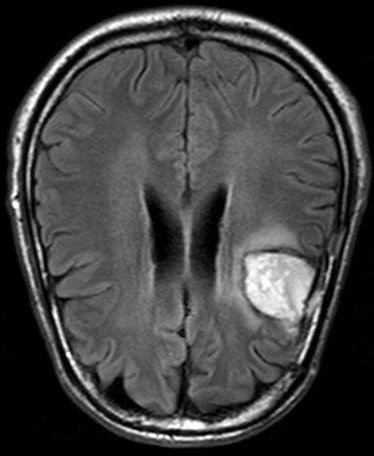Tumor: (240, 243, 324, 327)
